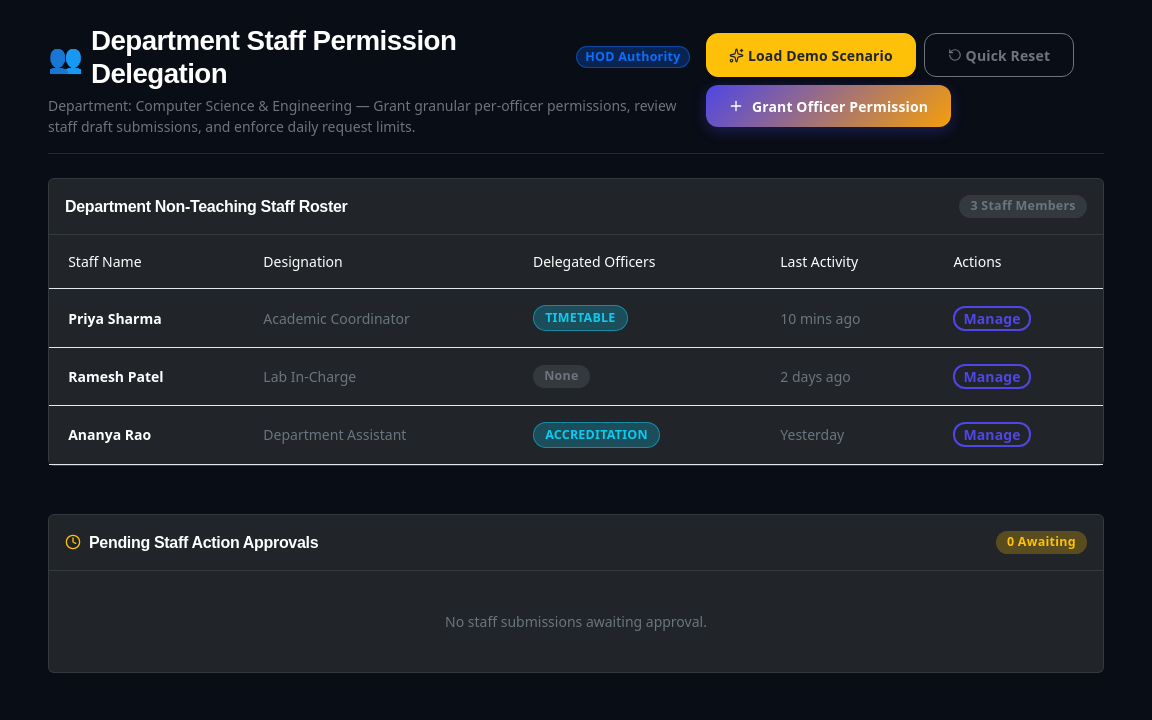
Test case: HodStaffManagementPage Component › Opens grant permission modal on button click
This screenshot has width=1152, height=720.
Click the button "Grant Officer Permission" at coordinates (828, 106), box [706,85,950,127]
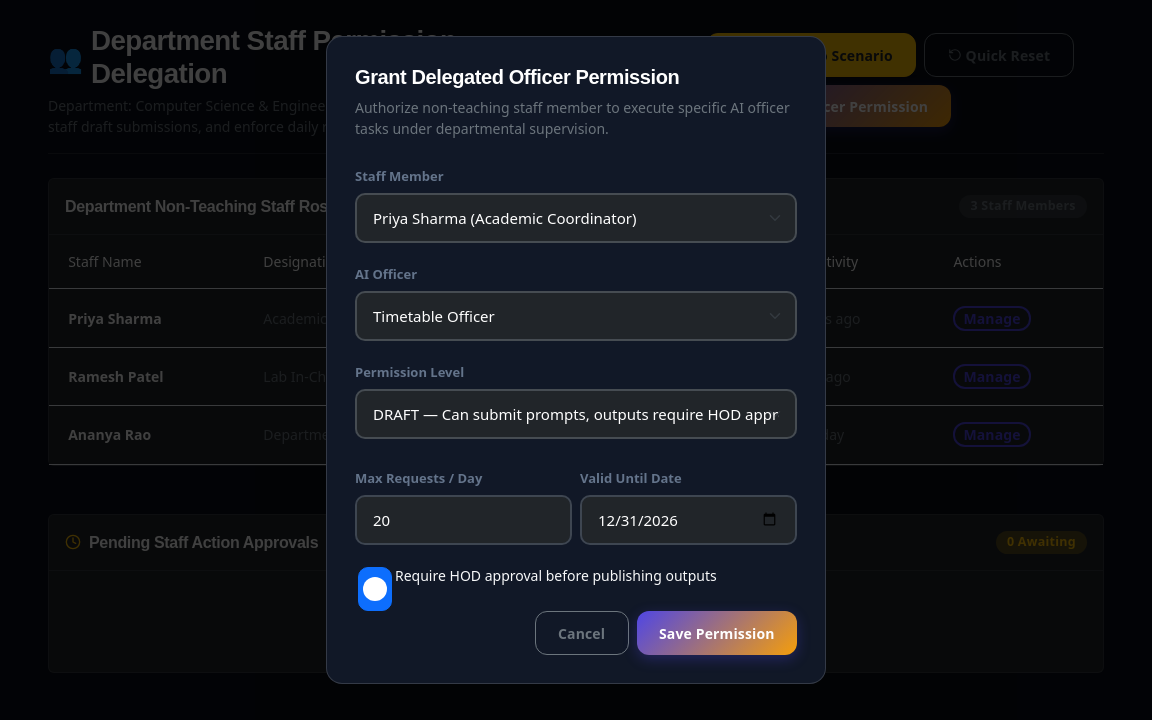
Expected: the heading "Grant Delegated Officer Permission" is shown, [355,66,679,88]
Expected: the text "AI officer" is shown, [355,98,790,138]
Expected: the text "Permission Level" is shown, [355,363,464,383]
